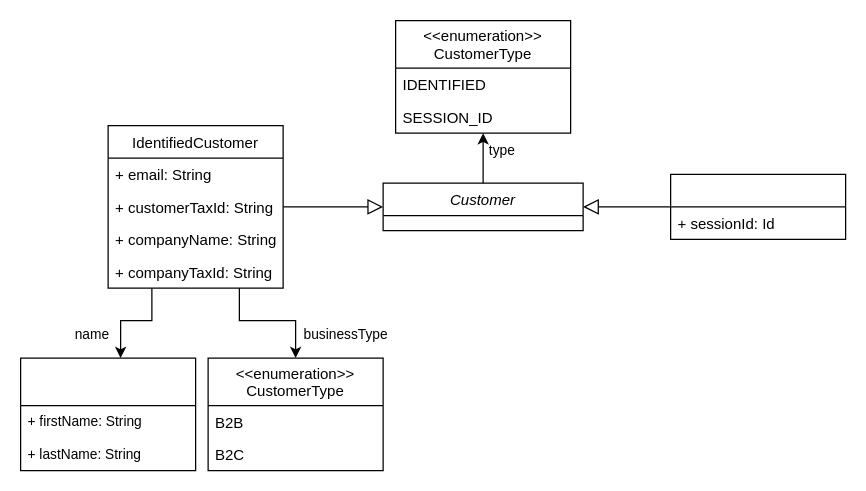
This 866x491 diagram has some shape labels left out. Each missing label, with the box of its shape:
CustomerName: (19, 357, 196, 471)
SessionCustomer: (669, 173, 846, 239)
